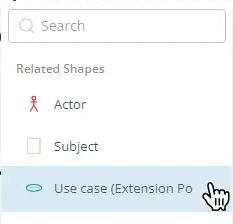icon: (26, 138, 44, 158), (26, 181, 44, 196), (29, 96, 41, 115)
input: (9, 11, 227, 43)
label: (54, 181, 195, 197), (17, 62, 108, 79), (54, 139, 102, 155), (55, 98, 89, 113)
